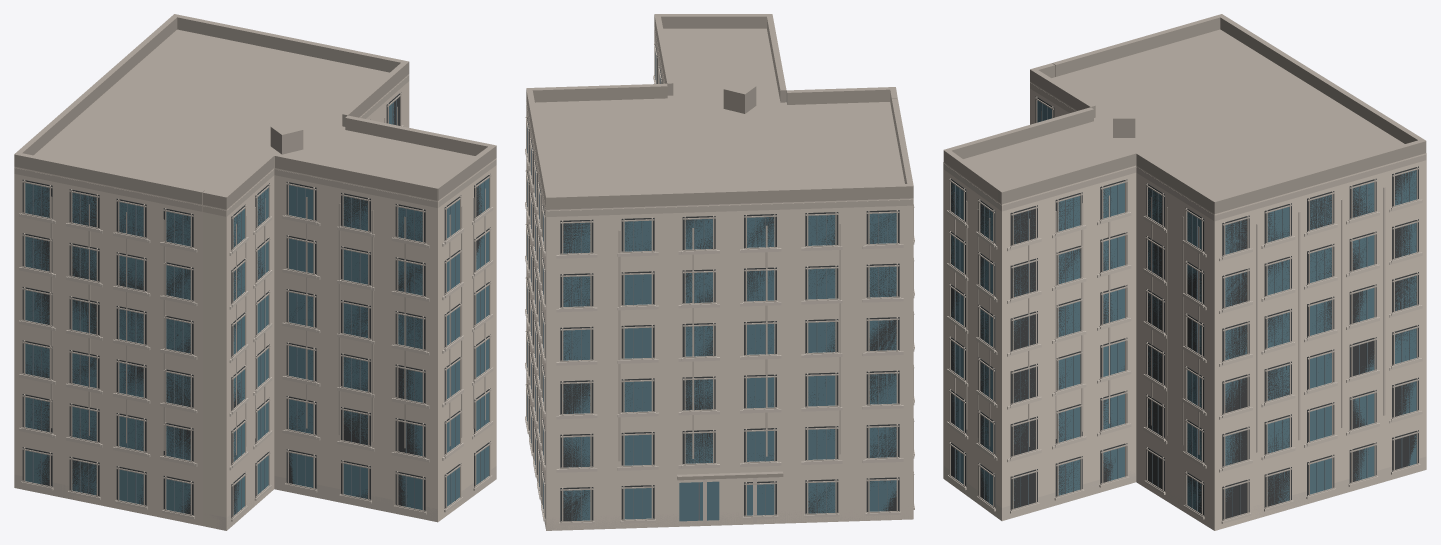
The model's file is cop_misto_loja_terrea_02__way_488128337.fbx.
The picture shows the model from 3 angles, left to right: view 1: azimuth 30°, elevation 25°; view 2: azimuth 150°, elevation 25°; view 3: azimuth 270°, elevation 25°; orthographic projection.
Parts seen in each view (by area): view 1: cop_misto_loja_terrea_02__way_488128337_wall, cop_misto_loja_terrea_02__way_488128337_roof, cop_misto_loja_terrea_02__way_488128337_glass, cop_misto_loja_terrea_02__way_488128337_trim, cop_misto_loja_terrea_02__way_488128337_shadow, cop_misto_loja_terrea_02__way_488128337_stone, cop_misto_loja_terrea_02__way_488128337_metal; view 2: cop_misto_loja_terrea_02__way_488128337_wall, cop_misto_loja_terrea_02__way_488128337_roof, cop_misto_loja_terrea_02__way_488128337_glass, cop_misto_loja_terrea_02__way_488128337_shadow, cop_misto_loja_terrea_02__way_488128337_trim, cop_misto_loja_terrea_02__way_488128337_stone, cop_misto_loja_terrea_02__way_488128337_metal; view 3: cop_misto_loja_terrea_02__way_488128337_wall, cop_misto_loja_terrea_02__way_488128337_roof, cop_misto_loja_terrea_02__way_488128337_shadow, cop_misto_loja_terrea_02__way_488128337_glass, cop_misto_loja_terrea_02__way_488128337_trim, cop_misto_loja_terrea_02__way_488128337_stone, cop_misto_loja_terrea_02__way_488128337_metal.
Part boxes in pixels (x1,y1,x2,y2): cop_misto_loja_terrea_02__way_488128337_wall: [14, 74, 496, 530]; cop_misto_loja_terrea_02__way_488128337_roof: [14, 14, 496, 209]; cop_misto_loja_terrea_02__way_488128337_glass: [25, 102, 489, 515]; cop_misto_loja_terrea_02__way_488128337_trim: [14, 75, 496, 518]; cop_misto_loja_terrea_02__way_488128337_shadow: [22, 92, 490, 518]; cop_misto_loja_terrea_02__way_488128337_stone: [14, 125, 496, 530]; cop_misto_loja_terrea_02__way_488128337_metal: [32, 99, 485, 513]; cop_misto_loja_terrea_02__way_488128337_wall: [526, 27, 913, 530]; cop_misto_loja_terrea_02__way_488128337_roof: [526, 14, 913, 480]; cop_misto_loja_terrea_02__way_488128337_glass: [563, 213, 896, 521]; cop_misto_loja_terrea_02__way_488128337_shadow: [526, 43, 899, 522]; cop_misto_loja_terrea_02__way_488128337_trim: [525, 28, 914, 522]; cop_misto_loja_terrea_02__way_488128337_stone: [525, 75, 914, 530]; cop_misto_loja_terrea_02__way_488128337_metal: [527, 52, 887, 520]; cop_misto_loja_terrea_02__way_488128337_wall: [943, 81, 1426, 530]; cop_misto_loja_terrea_02__way_488128337_roof: [943, 14, 1426, 213]; cop_misto_loja_terrea_02__way_488128337_shadow: [949, 96, 1418, 520]; cop_misto_loja_terrea_02__way_488128337_glass: [951, 100, 1416, 512]; cop_misto_loja_terrea_02__way_488128337_trim: [943, 83, 1426, 520]; cop_misto_loja_terrea_02__way_488128337_stone: [943, 199, 1426, 526]; cop_misto_loja_terrea_02__way_488128337_metal: [954, 103, 1409, 517].
Size of the model in its own units: 2295 by 1912 by 2488.
